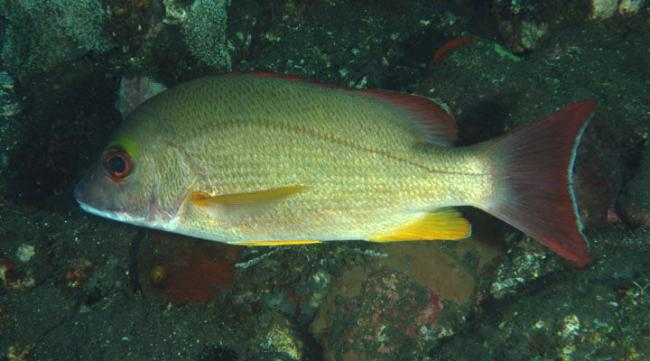fish: (73, 70, 598, 267)
